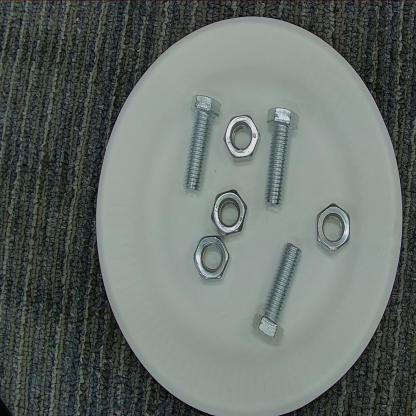FOD: (248, 233, 304, 349), (189, 186, 252, 284), (175, 89, 223, 198), (258, 102, 303, 205), (312, 201, 360, 252), (222, 108, 262, 164)
